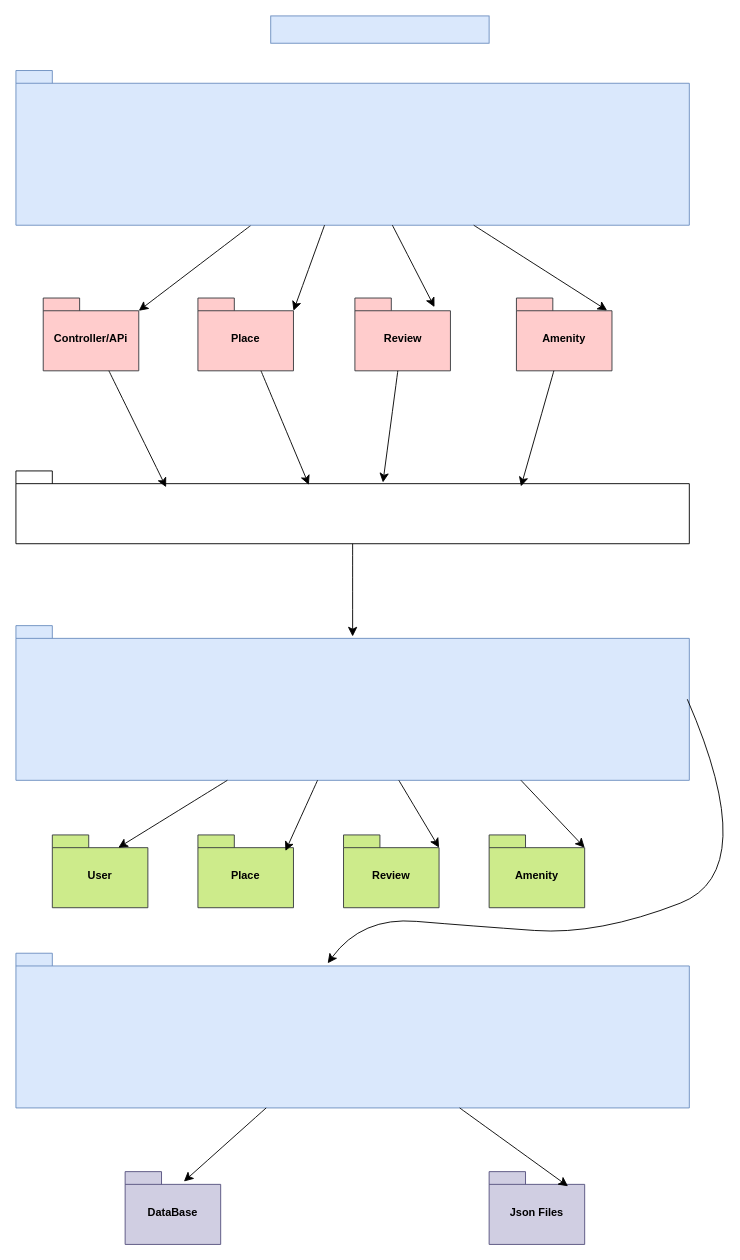
Some shapes in this 740 by 1260 pixel diagram are drawn without their labels. Each missing label, with the box of its shape:
Business Logic Layer: (15, 625, 689, 780)
Facade: (15, 470, 689, 544)
HBNB Architecture: (270, 15, 489, 43)
Persistence Layer: (15, 952, 689, 1108)
Presentation Layer: (15, 70, 689, 225)
